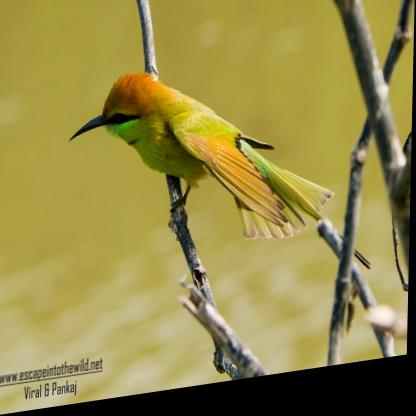Burung: (67, 52, 337, 272)
